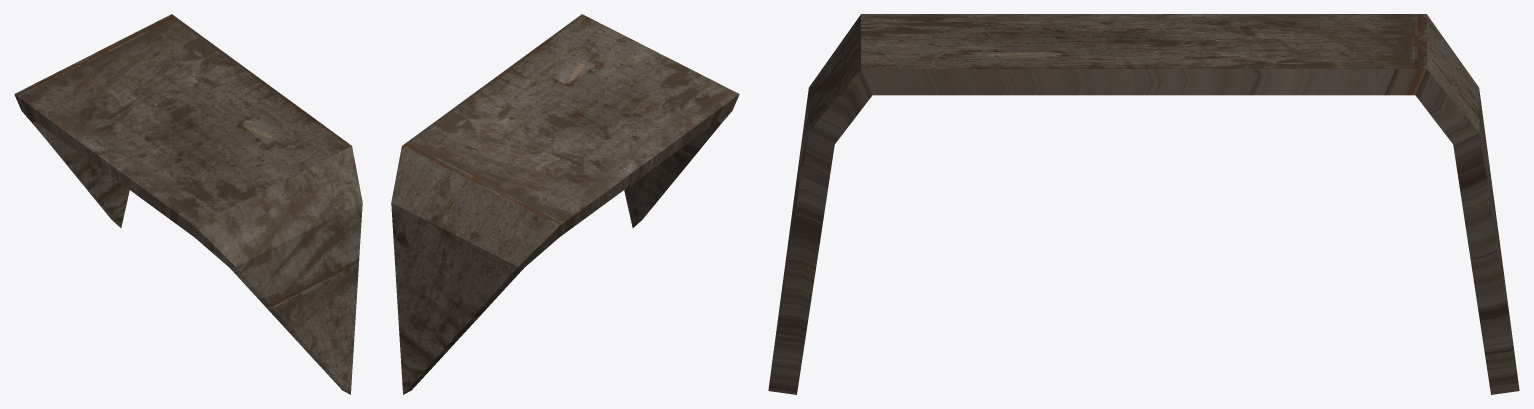
Rendered from dispenser_door_3.glb.
3 renders of one model, left to right at view 1: azimuth 30°, elevation 25°; view 2: azimuth 150°, elevation 25°; view 3: azimuth 270°, elevation 25°, orthographic. The views are drawn at different scales.
Visible parts, largest first — view 1: Cylinder.012; view 2: Cylinder.012; view 3: Cylinder.012.
Boxes of the visible parts, x1,y1,x2,y2 form: Cylinder.012: (14,14,362,394); Cylinder.012: (391,14,739,394); Cylinder.012: (768,14,1519,394).
Size of the model in its own units: 0.5181 by 0.6825 by 1.33.
Materials: 1 (1 with a texture image).
